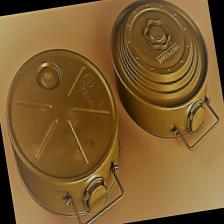TM-46: (0, 37, 128, 224), (100, 0, 224, 163)
